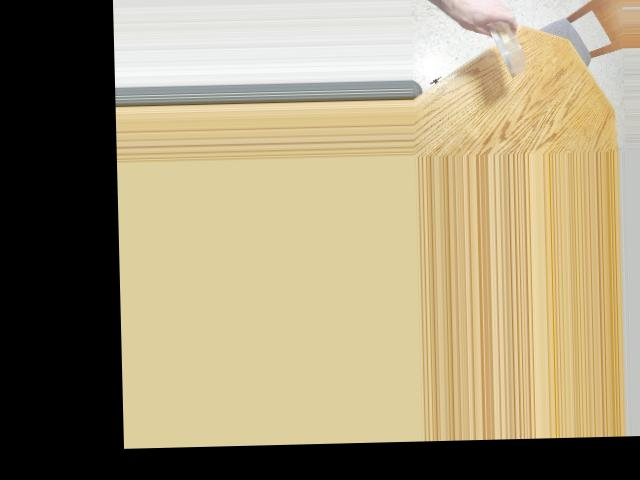cheese: (489, 13, 526, 80)
